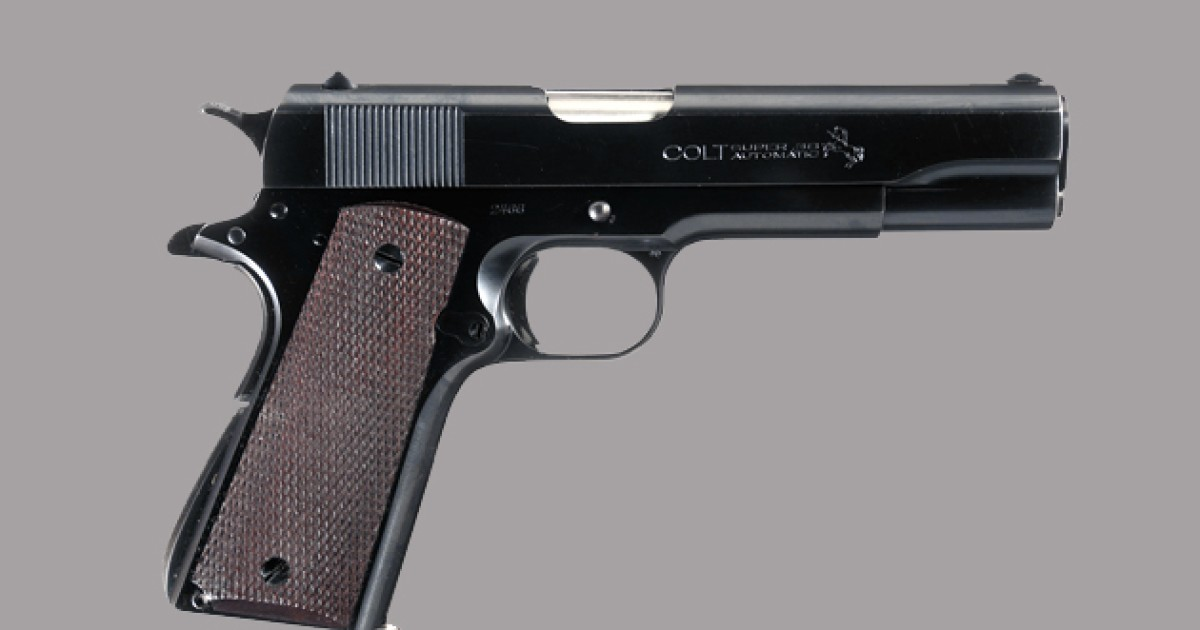Arma Real: (164, 74, 1081, 630)
